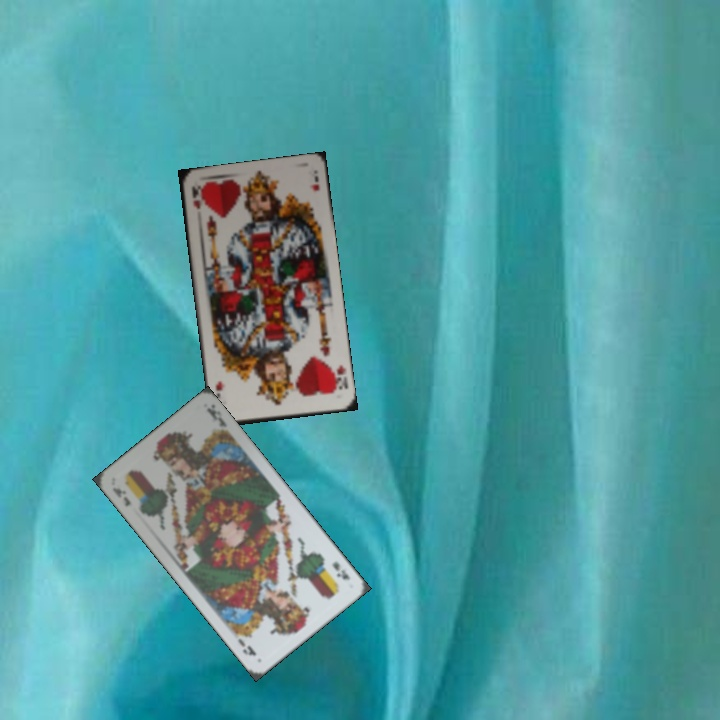EK: (108, 483, 134, 509), (328, 557, 353, 583)
HK: (328, 361, 350, 396), (187, 182, 203, 211)
